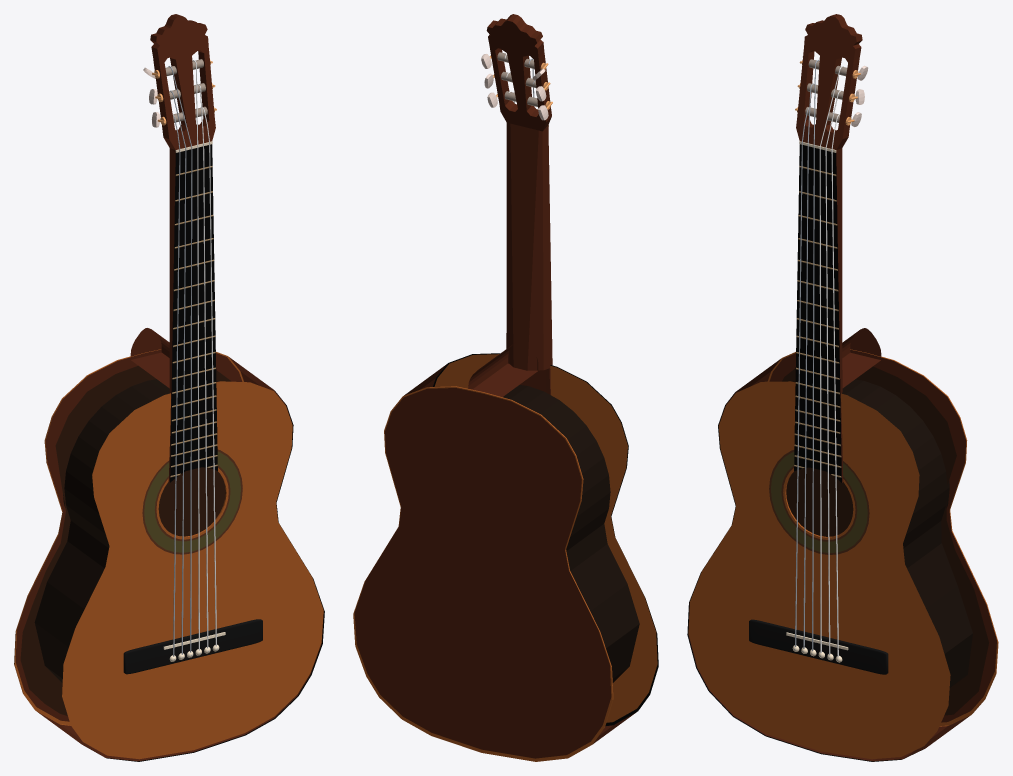
File: chitarra2.fbx
The picture shows the model from 3 angles, left to right: view 1: azimuth 30°, elevation 25°; view 2: azimuth 150°, elevation 25°; view 3: azimuth 330°, elevation 25°; orthographic projection.
Visible parts, largest first — view 1: Sphere.007; view 2: Sphere.007; view 3: Sphere.007.
Part boxes in pixels (box(x1,y1,x2,y2)): Sphere.007: box(14, 14, 324, 761); Sphere.007: box(353, 14, 658, 761); Sphere.007: box(687, 14, 998, 761).
Size of the model in its own units: 174 by 457 by 57.01.
